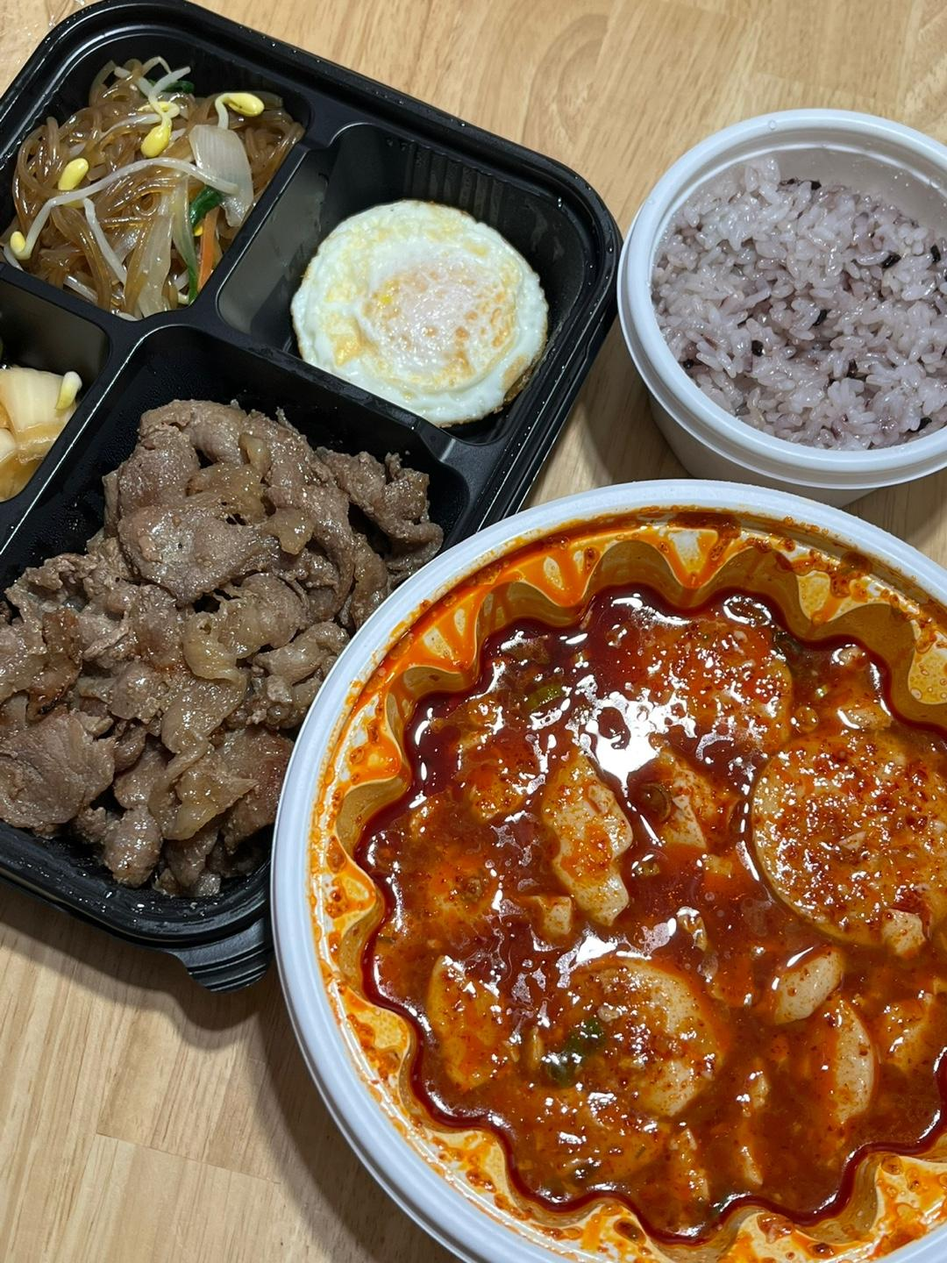Lunch Box: (0, 0, 619, 992), (271, 482, 946, 1262), (618, 110, 946, 505)
